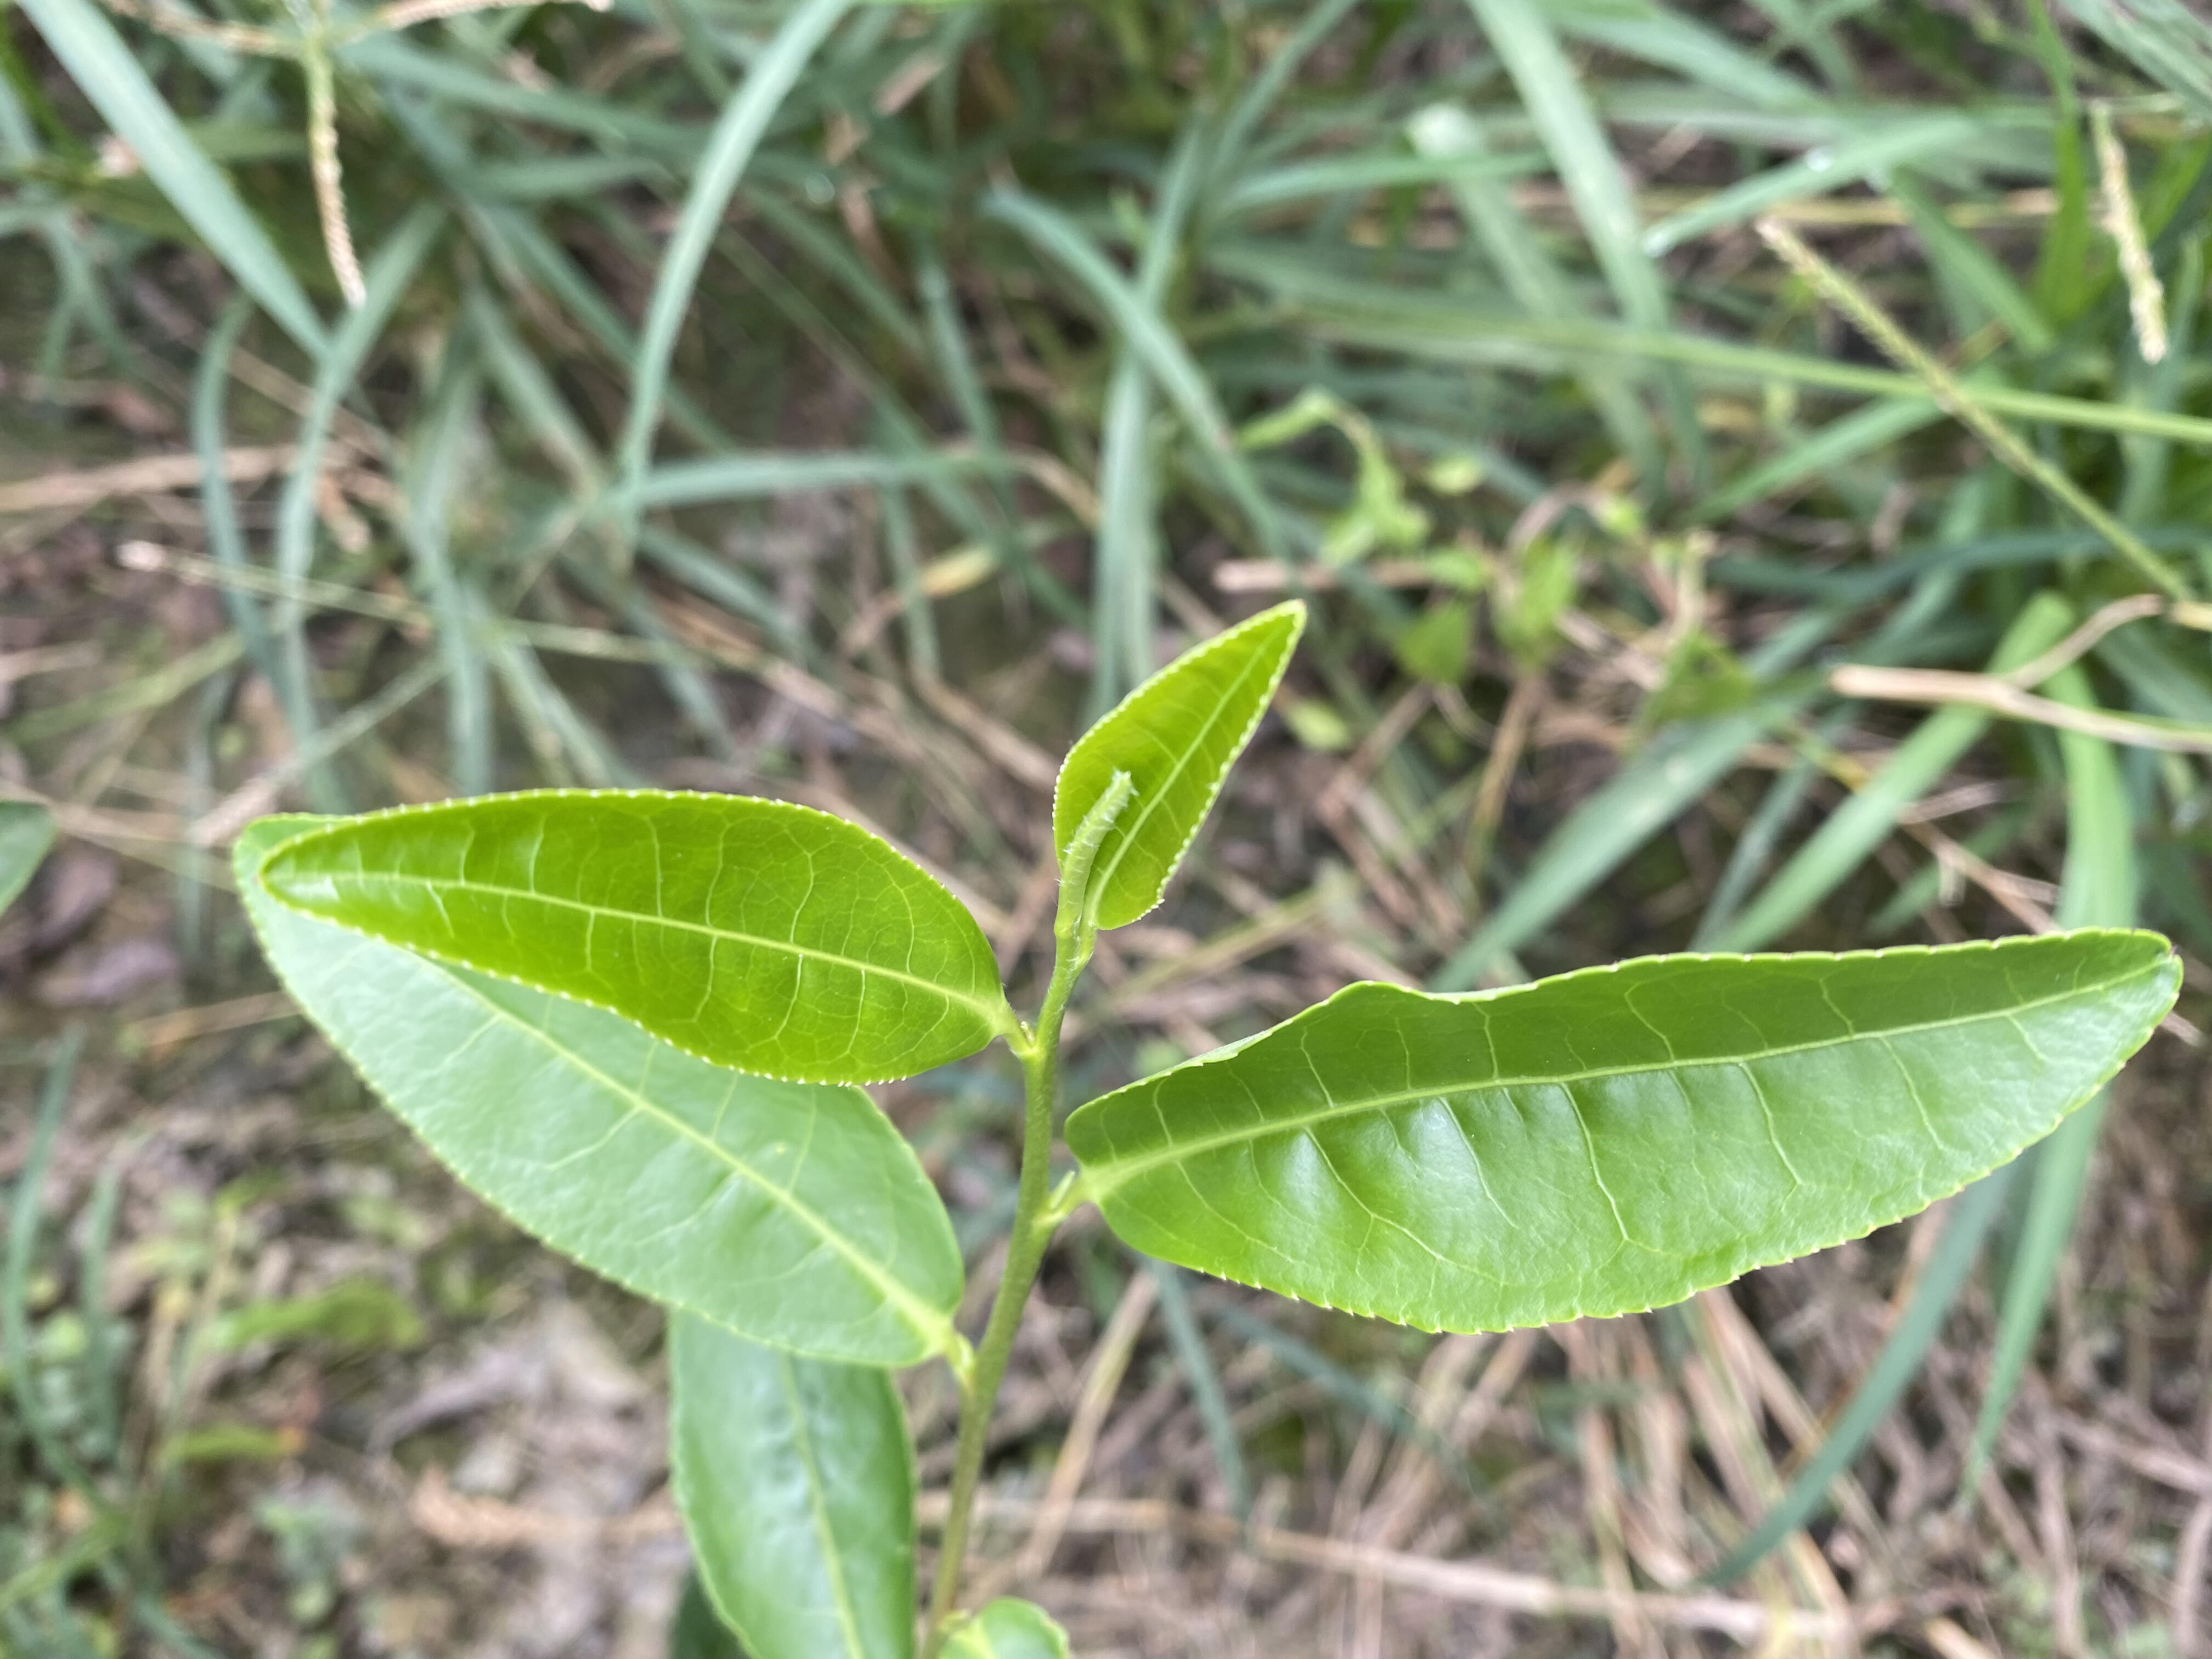healthy: (1061, 927, 2188, 1344), (235, 809, 963, 1371), (258, 784, 1008, 1084), (1052, 603, 1306, 929)
